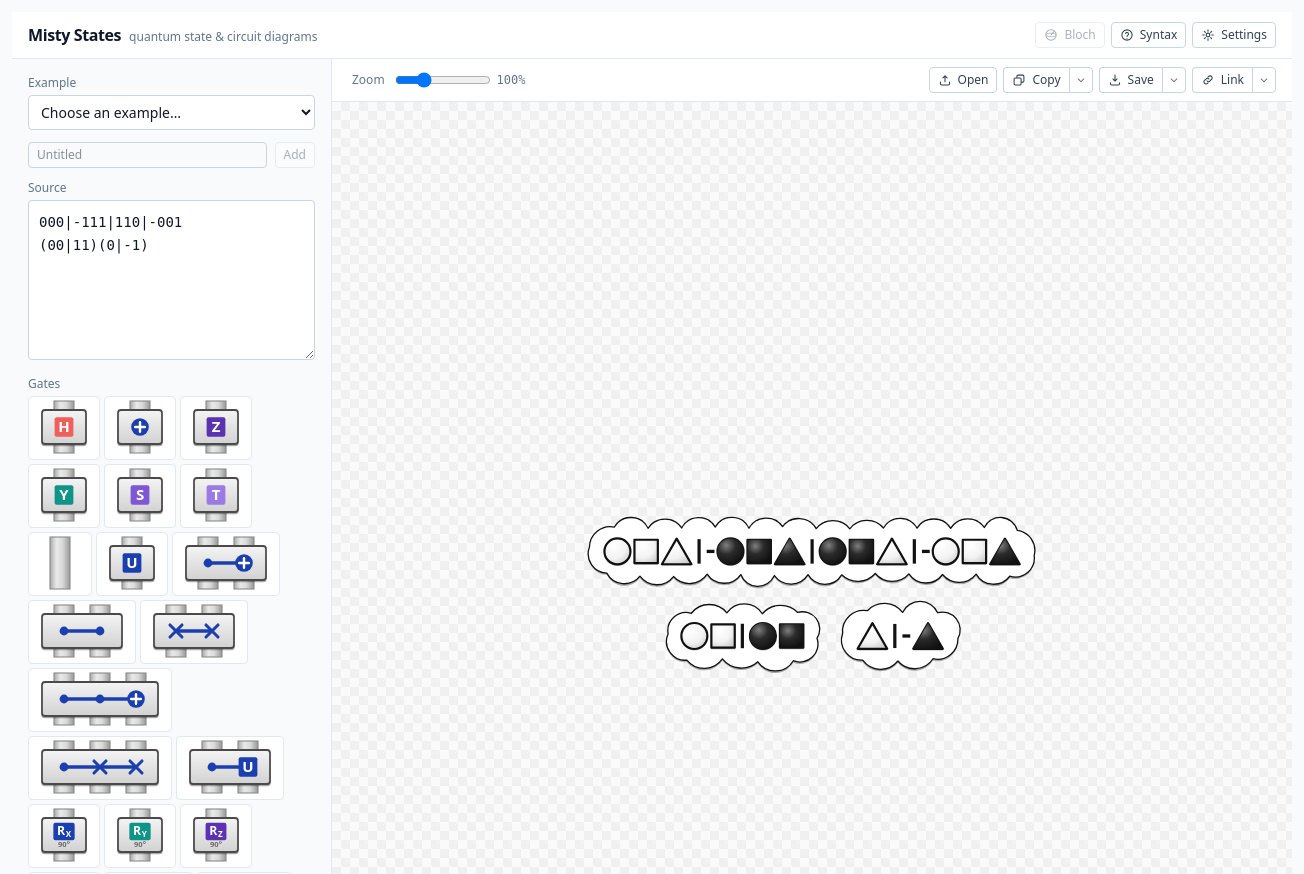
export buttons › keeps the menu closed until the caret is used
The image size is (1304, 874).
Expected: the text "Vector, and editable in Inkscape" is not shown
What coordinates should you click on to do the following:
click the button named "Save: more options"
I would click on:
 (1174, 80)
Its box is [1162,67,1186,93].
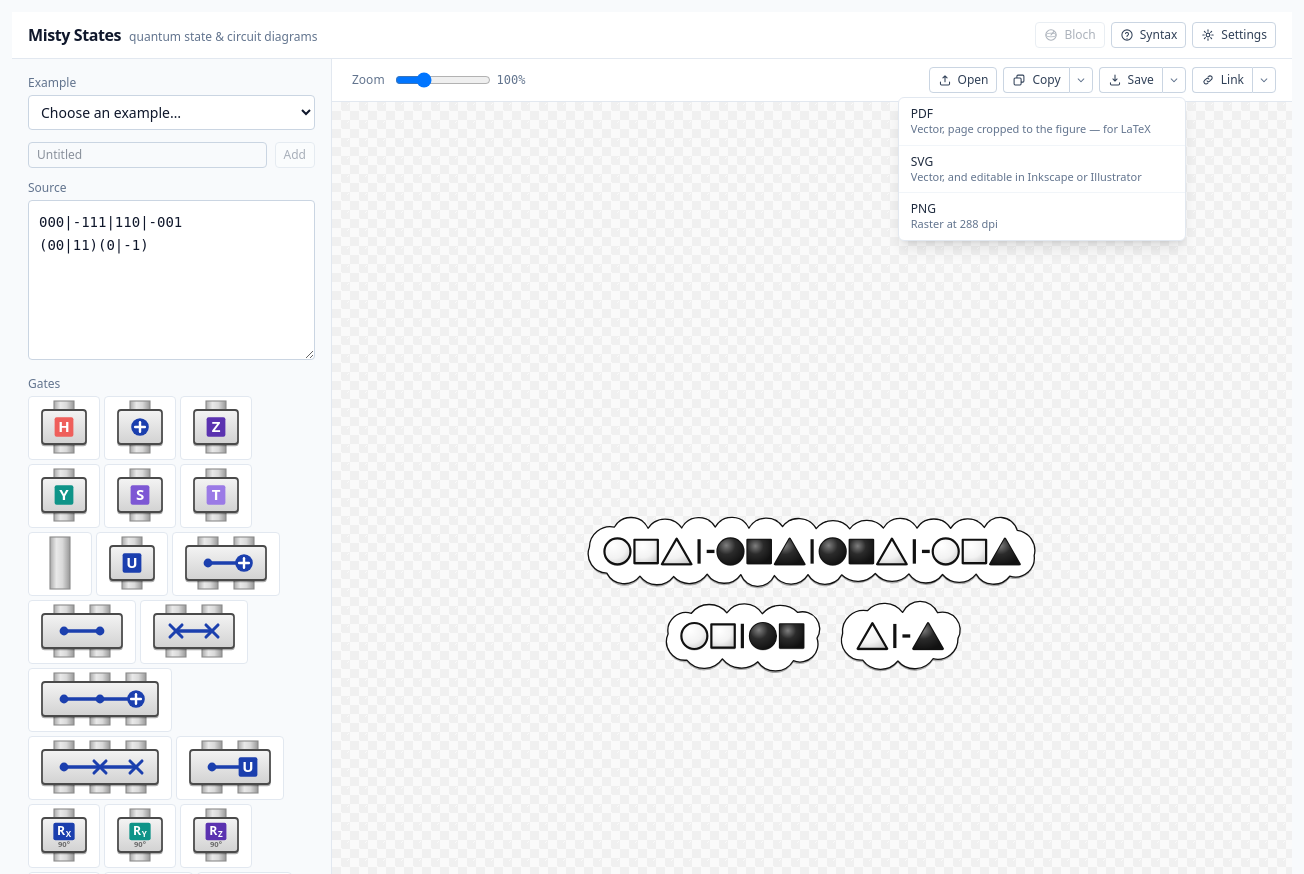
Expected: the text "Vector, and editable in Inkscape" is shown, [911,169,1142,184]
